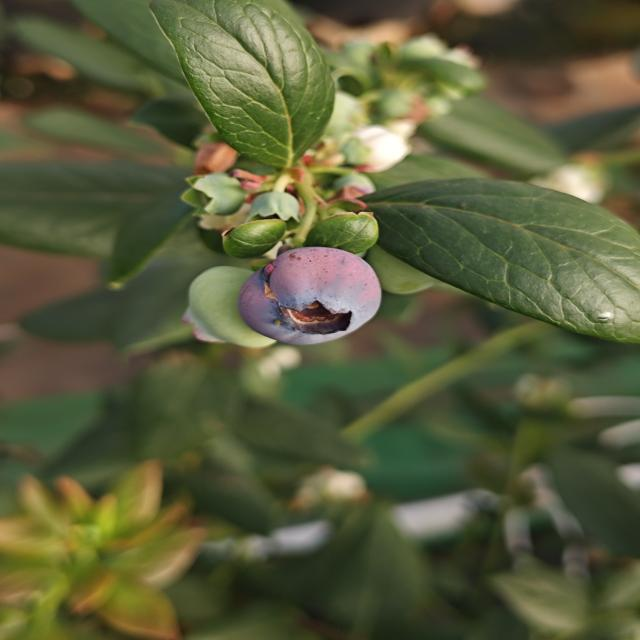ripe: (234, 245, 392, 347)
